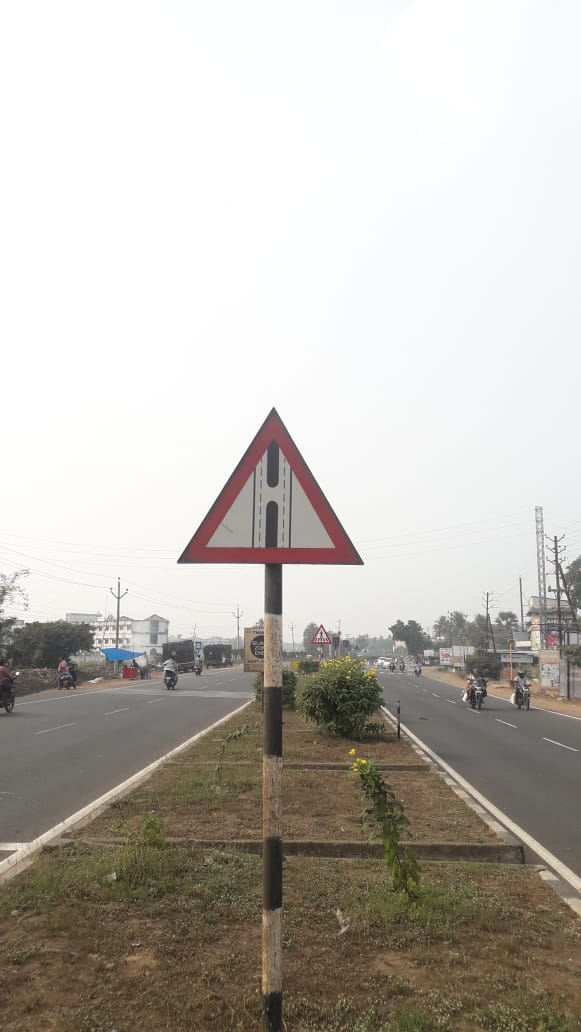highway go straight: (151, 399, 411, 610)
